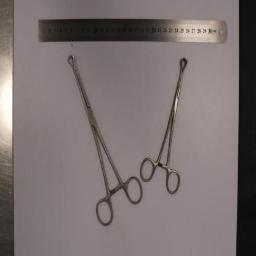Babcock Tissue Forceps: (140, 56, 188, 194)
